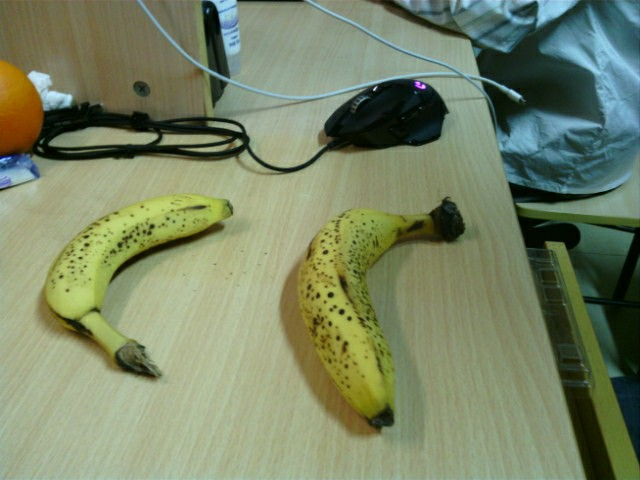normal_banana: (296, 197, 465, 431), (45, 194, 236, 381)
